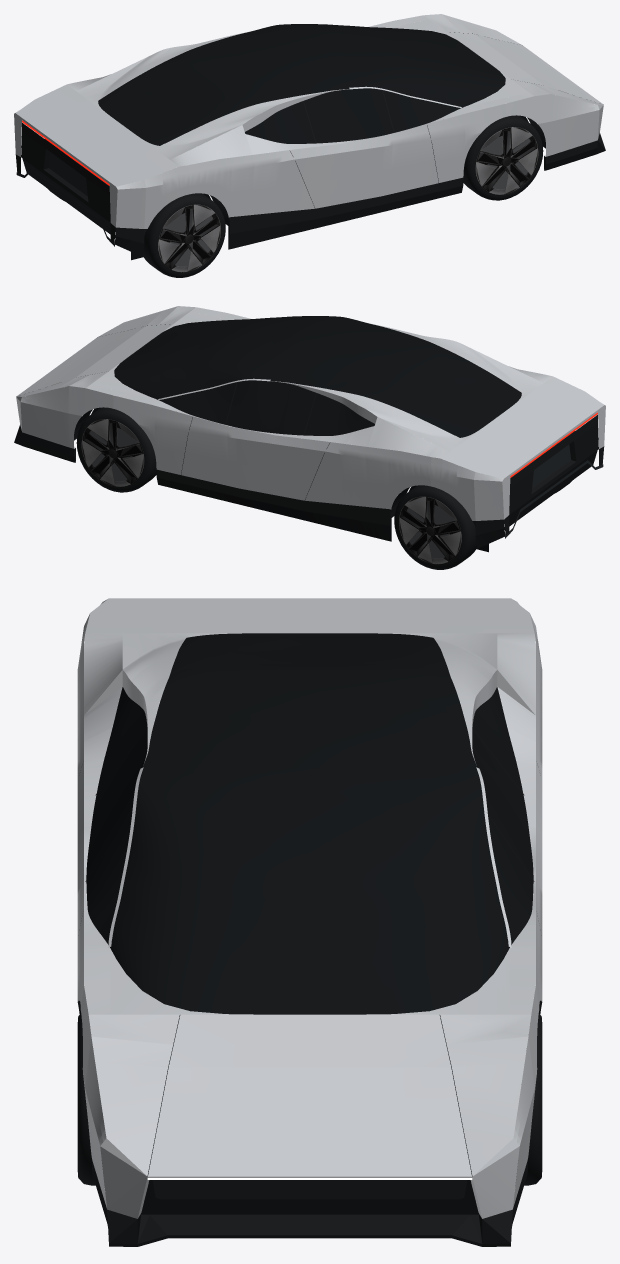
The model's file is roadster_r3.glb.
3 views of the same model, one above another, from view 1: azimuth 30°, elevation 25°; view 2: azimuth 150°, elevation 25°; view 3: azimuth 270°, elevation 25° (orthographic). The views are drawn at different scales.
Visible parts, largest first — view 1: body_shell, closed_canopy, lower_trim_and_panel_seams, wheel_rr, wheel_fr; view 2: body_shell, closed_canopy, lower_trim_and_panel_seams, wheel_rl, wheel_fl; view 3: closed_canopy, body_shell, lower_trim_and_panel_seams, wheel_fl, wheel_fr.
Boxes of the visible parts, x1,y1,x2,y2 form: body_shell: [14, 14, 603, 228]; closed_canopy: [98, 24, 505, 145]; lower_trim_and_panel_seams: [15, 32, 605, 260]; wheel_rr: [143, 193, 225, 277]; wheel_fr: [463, 115, 543, 200]; body_shell: [16, 306, 605, 520]; closed_canopy: [114, 316, 521, 437]; lower_trim_and_panel_seams: [14, 324, 604, 552]; wheel_rl: [394, 485, 476, 569]; wheel_fl: [76, 407, 156, 492]; closed_canopy: [86, 633, 533, 1014]; body_shell: [77, 598, 542, 1218]; lower_trim_and_panel_seams: [77, 729, 542, 1246]; wheel_fl: [524, 1013, 542, 1185]; wheel_fr: [77, 1013, 95, 1185].
Bounding box in the file's own units: 4.6 × 1.26 × 1.86.
7 materials, 2 textured.
